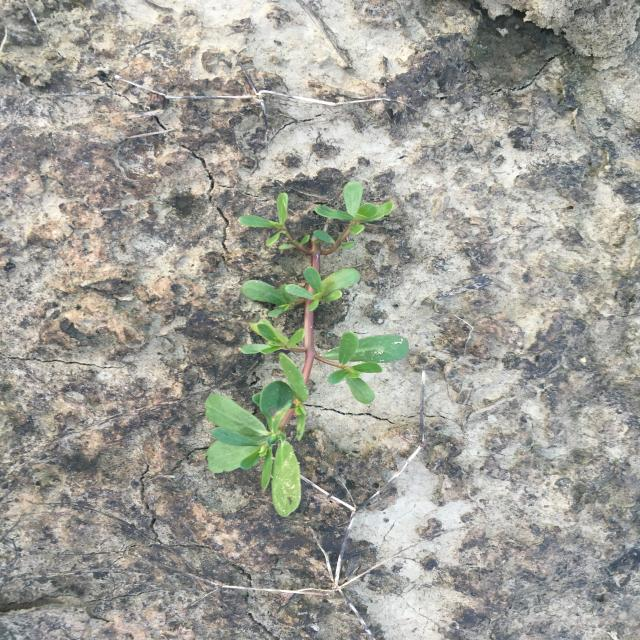Purslane: (202, 178, 412, 518)
